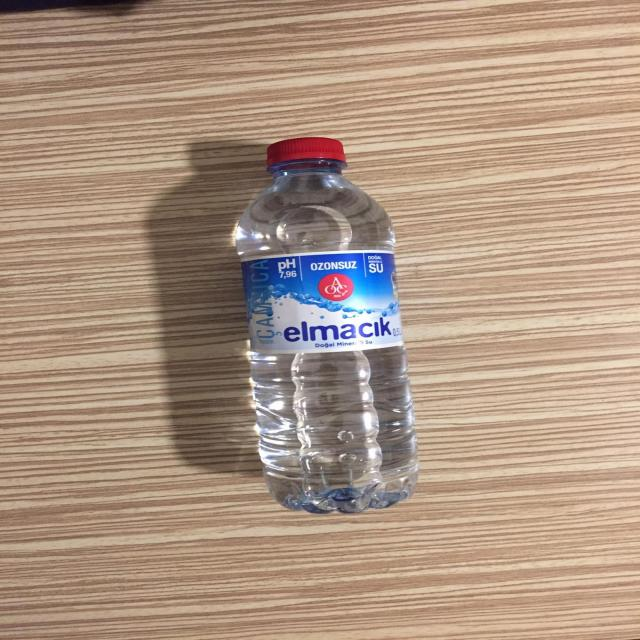bottle: (214, 130, 447, 516)
